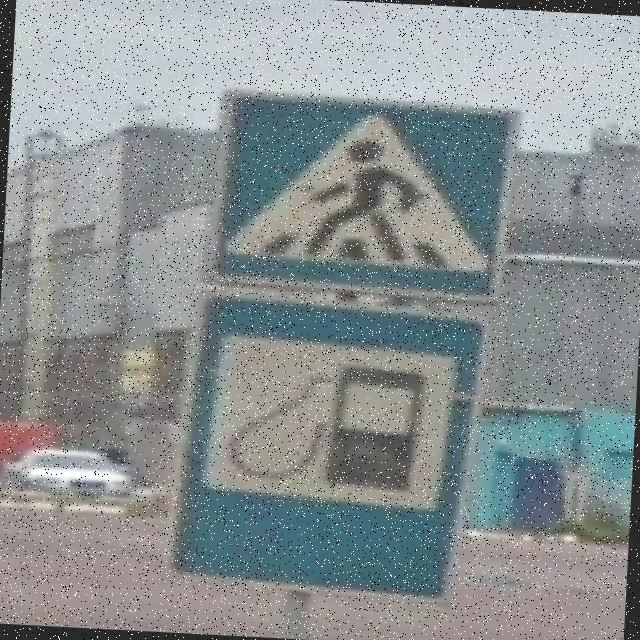Przejscie dla pieszych: (202, 84, 524, 304)
